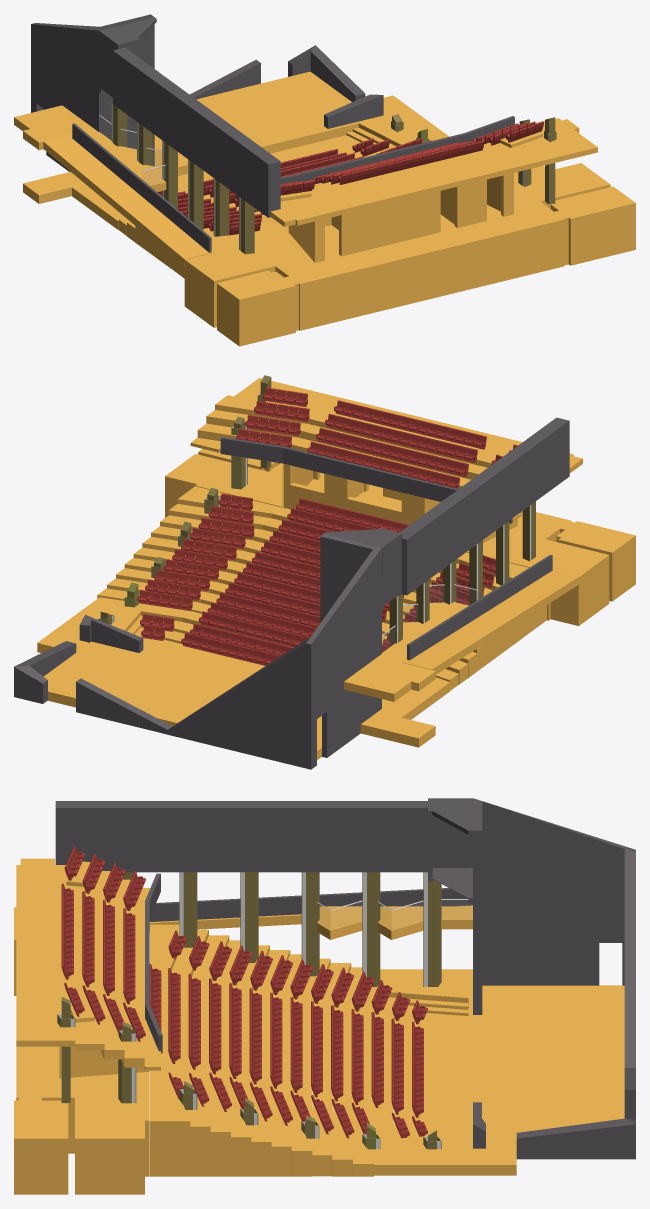
File: venue3D.glb
3 views of the same model, one above another, from view 1: azimuth 30°, elevation 25°; view 2: azimuth 150°, elevation 25°; view 3: azimuth 270°, elevation 25° (orthographic). The views are drawn at different scales.
Visible parts, largest first — view 1: sol.regie, PRO-VUPL_curve_.005, PRO-VUPL____curve_.007, PRO-VUPL____curve_.005, PRO-VUPL_curve_.017, murs.regie, PRO-VUPL_curve_.018, PRO-ESCALIERS-PROJECTION_curve_.004, PRO-VUPL_curve_.015, PRO-ESCALIERS-PROJECTION_curve_.006, PRO-VUPL____curve_.008, Couloir_NezDeScene (+10 smaller); view 2: PRO-VUPL_curve_.017, PRO-VUPL_curve_.005, sol.regie, PRO-VUPL____curve_.007, PRO-VUPL_curve_.018, PRO-VUPL____curve_.005, PRO-VUPL____curve_.008, PRO-VUPL_curve_.015, PRO-ESCALIERS-PROJECTION_curve_.004, mur_face_regie, PRO-ESCALIERS-PROJECTION_curve_.006, 2D_Floor_Plan.002 (+50 smaller); view 3: PRO-VUPL_curve_.005, PRO-VUPL_curve_.017, PRO-VUPL____curve_.007, sol.regie, PRO-VUPL____curve_.005, PRO-ESCALIERS-PROJECTION_curve_.004, PRO-ESCALIERS-PROJECTION_curve_.002, PRO-VUPL_curve_.003, 2D_Floor_Plan.001, Couloir_NezDeScene, PRO-ESCALIERS-PROJECTION_curve_.006, PRO-VUPL_curve_.015 (+40 smaller).
Part boxes in pixels (x1=…): sol.regie: x1=184, y1=163, x2=635, y2=346; PRO-VUPL_curve_.005: x1=23, y1=71, x2=449, y2=230; PRO-VUPL____curve_.007: x1=112, y1=47, x2=280, y2=217; PRO-VUPL____curve_.005: x1=270, y1=119, x2=597, y2=226; PRO-VUPL_curve_.017: x1=31, y1=14, x2=383, y2=171; murs.regie: x1=288, y1=173, x2=513, y2=262; PRO-VUPL_curve_.018: x1=43, y1=134, x2=213, y2=266; PRO-ESCALIERS-PROJECTION_curve_.004: x1=111, y1=98, x2=229, y2=236; PRO-VUPL_curve_.015: x1=14, y1=105, x2=166, y2=191; PRO-ESCALIERS-PROJECTION_curve_.006: x1=72, y1=123, x2=211, y2=252; PRO-VUPL____curve_.008: x1=236, y1=116, x2=514, y2=199; Couloir_NezDeScene: x1=99, y1=17, x2=156, y2=97; PRO-VUPL_curve_.017: x1=79, y1=533, x2=381, y2=769; PRO-VUPL_curve_.005: x1=37, y1=597, x2=450, y2=760; sol.regie: x1=165, y1=449, x2=635, y2=625; PRO-VUPL____curve_.007: x1=399, y1=417, x2=569, y2=595; PRO-VUPL_curve_.018: x1=402, y1=570, x2=578, y2=674; PRO-VUPL____curve_.005: x1=215, y1=378, x2=582, y2=473; PRO-VUPL____curve_.008: x1=220, y1=437, x2=512, y2=523; PRO-VUPL_curve_.015: x1=344, y1=602, x2=468, y2=701; PRO-ESCALIERS-PROJECTION_curve_.004: x1=389, y1=521, x2=509, y2=646; mur_face_regie: x1=284, y1=464, x2=427, y2=524; PRO-ESCALIERS-PROJECTION_curve_.006: x1=407, y1=554, x2=552, y2=660; 2D_Floor_Plan.002: x1=76, y1=678, x2=183, y2=738; PRO-VUPL_curve_.005: x1=353, y1=969, x2=624, y2=1175; PRO-VUPL_curve_.017: x1=473, y1=798, x2=635, y2=1148; PRO-VUPL____curve_.007: x1=55, y1=801, x2=427, y2=872; sol.regie: x1=14, y1=907, x2=149, y2=1194; PRO-VUPL____curve_.005: x1=16, y1=858, x2=104, y2=1049; PRO-ESCALIERS-PROJECTION_curve_.004: x1=179, y1=872, x2=441, y2=986; PRO-ESCALIERS-PROJECTION_curve_.002: x1=150, y1=924, x2=190, y2=1176; PRO-VUPL_curve_.003: x1=414, y1=1013, x2=468, y2=1136; 2D_Floor_Plan.001: x1=516, y1=1118, x2=635, y2=1159; Couloir_NezDeScene: x1=428, y1=798, x2=472, y2=903; PRO-ESCALIERS-PROJECTION_curve_.006: x1=149, y1=888, x2=472, y2=921; PRO-VUPL_curve_.015: x1=317, y1=906, x2=472, y2=939.
Bounding box in the file's own units: 24.51 × 9.52 × 27.52.
